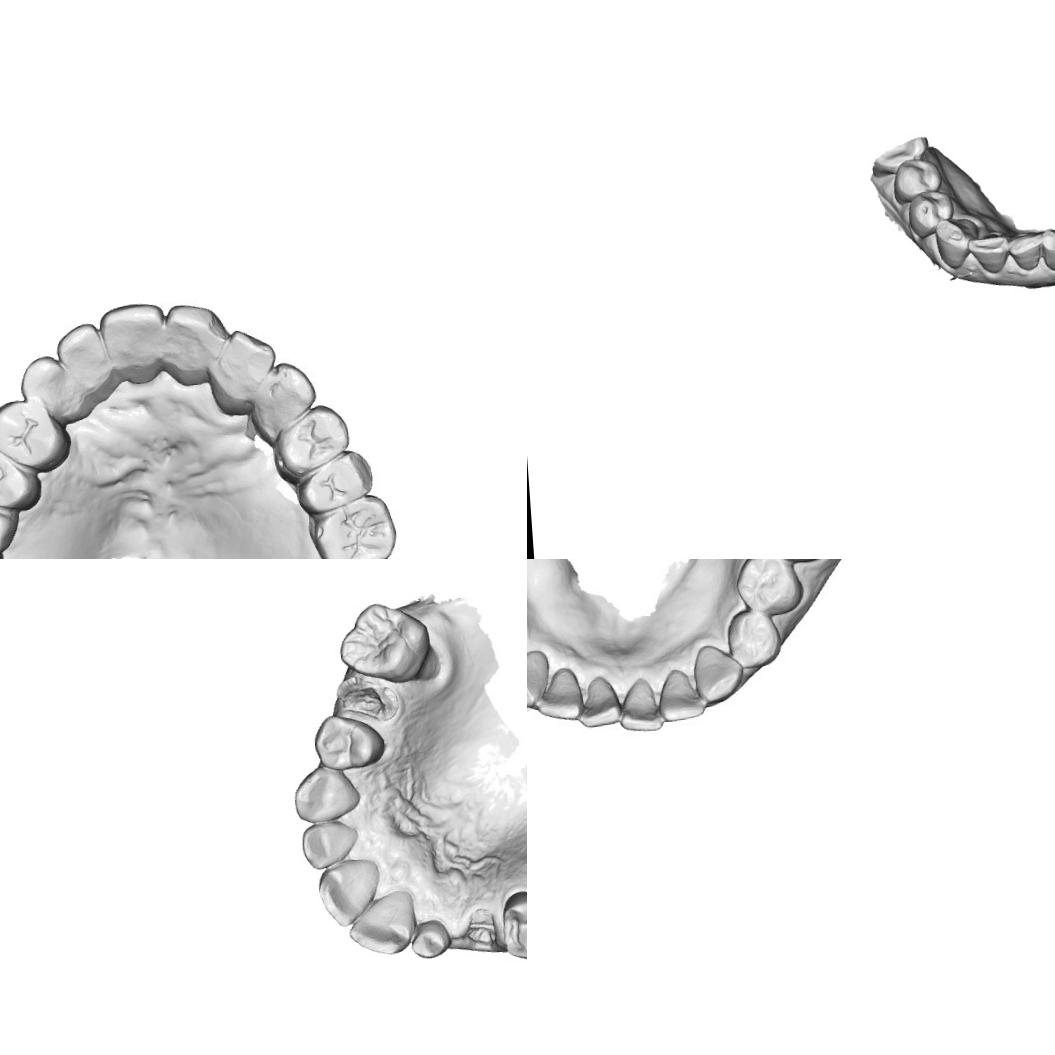canine: (249, 358, 316, 437), (18, 354, 85, 429), (290, 764, 362, 826), (692, 642, 742, 700), (933, 214, 981, 269), (527, 648, 551, 704)
incisor: (202, 326, 280, 418), (158, 293, 229, 383), (101, 299, 168, 388), (344, 887, 418, 959), (57, 320, 117, 404), (313, 856, 383, 928), (298, 818, 362, 870), (612, 670, 658, 732), (538, 666, 586, 720), (654, 664, 700, 720), (578, 670, 622, 726), (408, 918, 454, 962), (966, 233, 1011, 275), (1006, 232, 1042, 272), (1039, 225, 1055, 272)
molar: (336, 597, 438, 686), (309, 495, 400, 559), (0, 482, 27, 559)
premolar: (0, 394, 73, 472), (274, 402, 352, 472), (294, 448, 374, 512), (311, 710, 387, 772), (733, 559, 803, 625), (726, 610, 785, 672), (0, 444, 42, 516), (890, 156, 945, 205), (905, 188, 956, 238), (499, 888, 527, 963)
